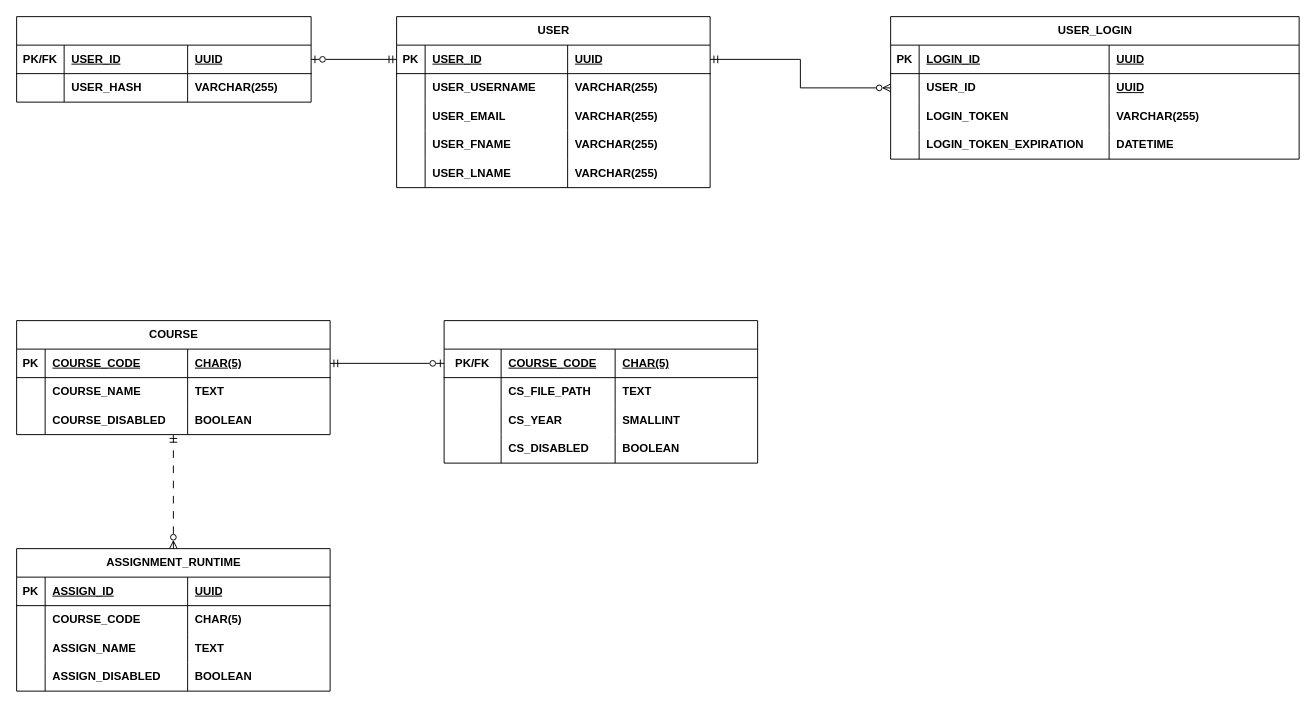
Some shapes in this 1316 by 708 pixel diagram are drawn without their labels. Each missing label, with the box of its shape:
COURSE_SYLLABUS: (443, 320, 758, 463)
USER_AUTHENTICATION: (16, 16, 311, 102)
